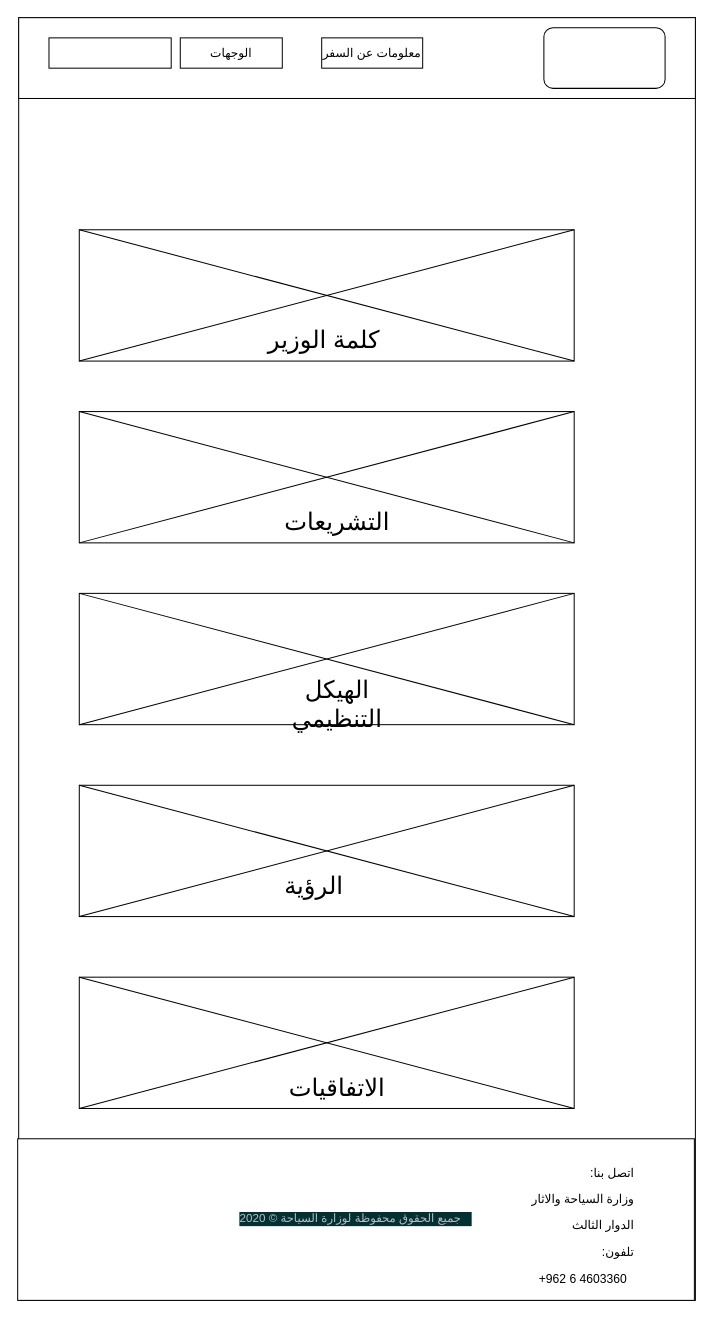
This 713x1318 diagram has some shape labels left out. Here are the shapes that lost their labels. From the top down, the box of each, then its label:
(48, 37, 171, 68): الضفحة الرئيسية
(543, 27, 665, 88): Logo وزارة السياحة والاثار
